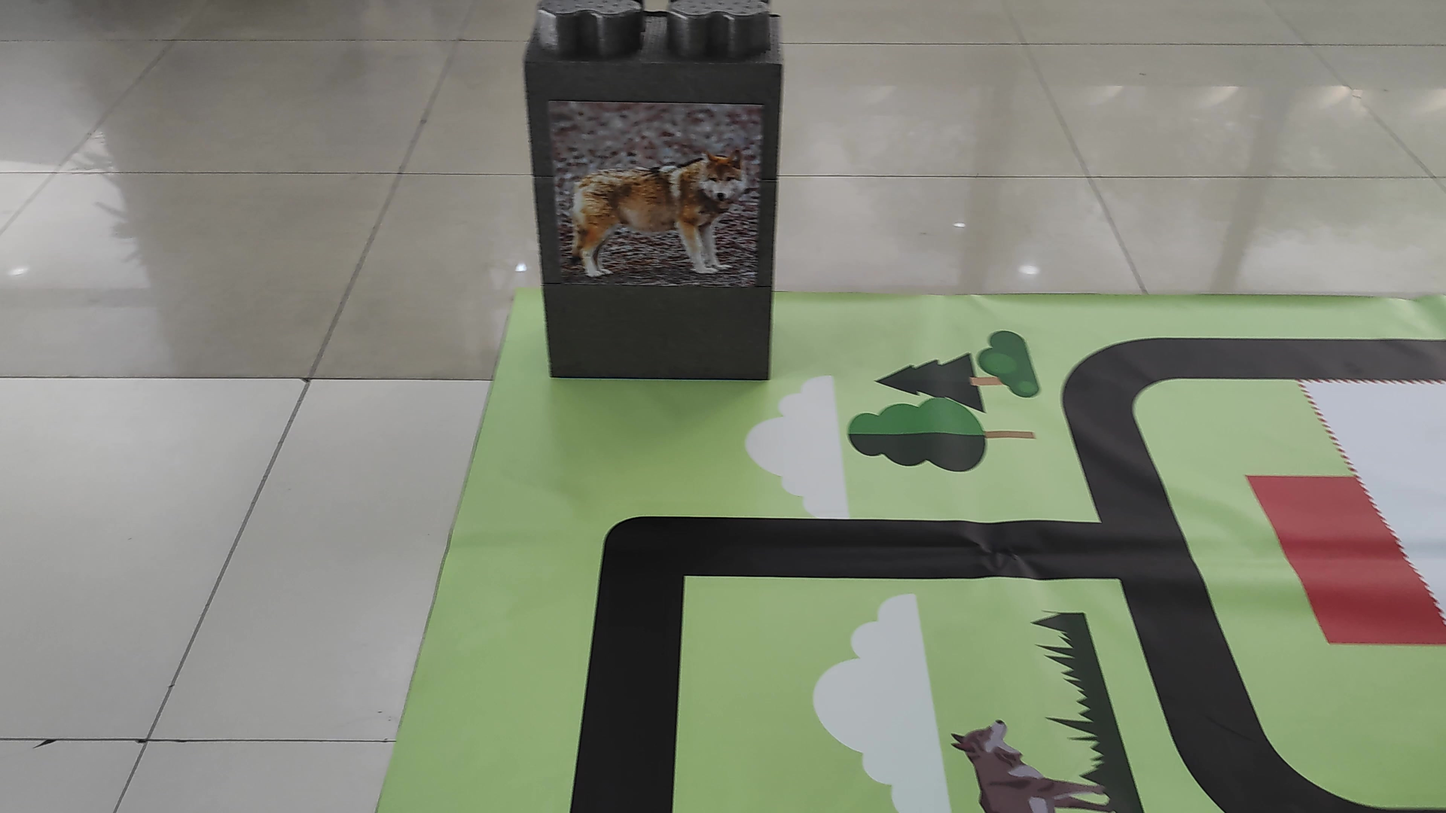wolf: (555, 96, 760, 287)
